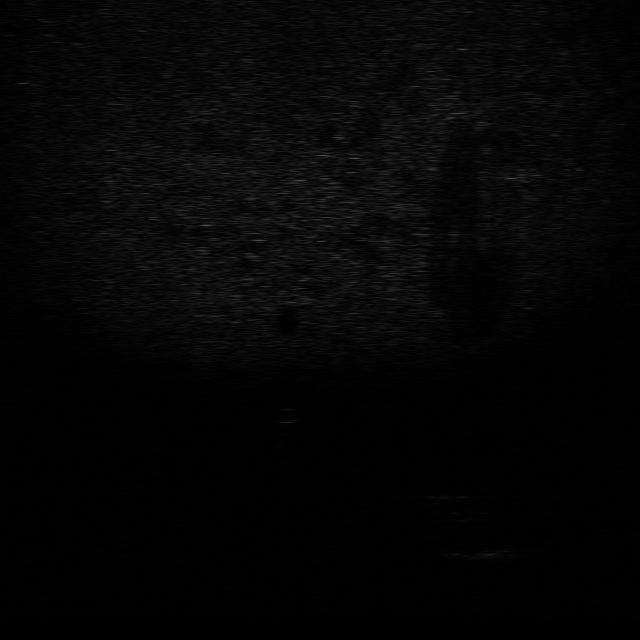ball: (270, 403, 302, 426)
metal bucket: (440, 545, 529, 565)
tyre: (422, 492, 488, 525)
